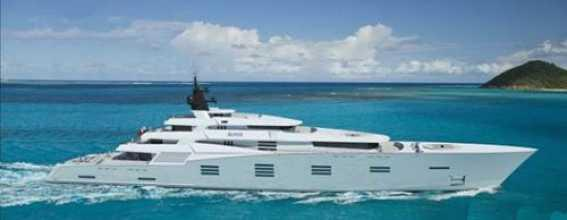yacht: (51, 81, 544, 189)
